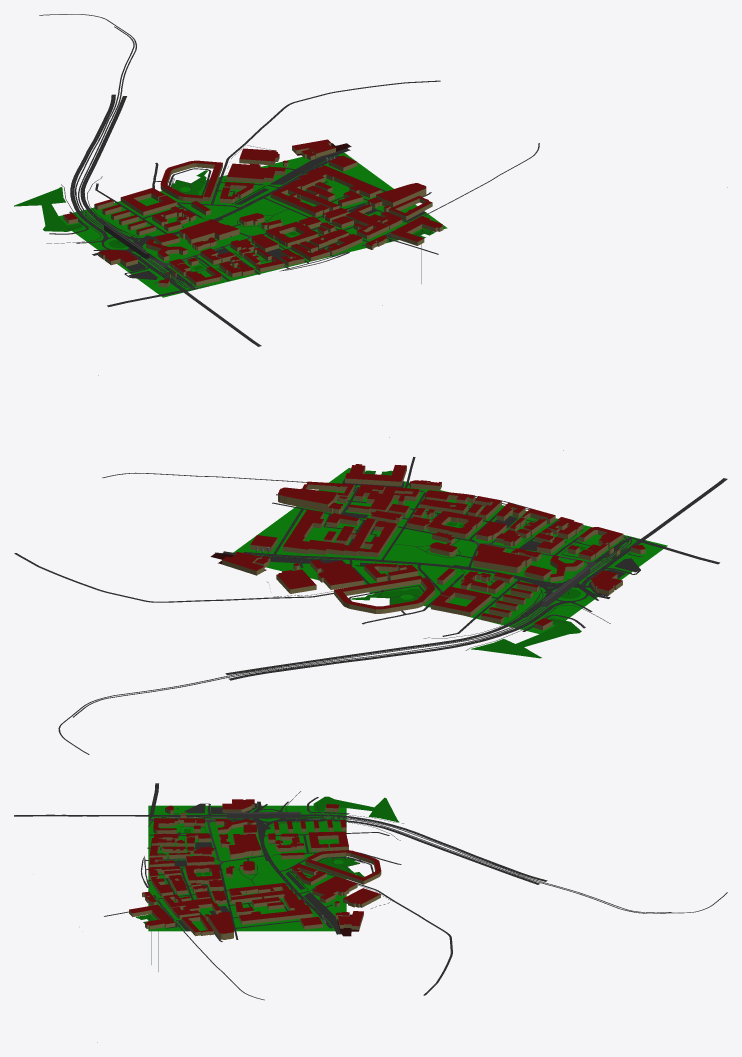
The model's file is Sheffield_St_Georges.obj.
3 views of the same model, one above another, from view 1: azimuth 30°, elevation 25°; view 2: azimuth 150°, elevation 25°; view 3: azimuth 270°, elevation 25° (orthographic). The views are drawn at different scales.
Parts seen in each view (by area): view 1: SurfaceArea735, SurfaceArea737, Building Sir Frederick Mappin Building, Road Netherthorpe Road, Building Edward Street Flats, SurfaceArea726, SurfaceArea736, Building The Diamond, Building Kroto Innovation Centre, Building Allen Court, Building Regent Court, Building Rockingham Street (+6 smaller); view 2: SurfaceArea735, SurfaceArea737, Building Sir Frederick Mappin Building, Road Netherthorpe Road, Building Edward Street Flats, SurfaceArea726, SurfaceArea736, Building The Diamond, Building Allen Court, Building Kroto Innovation Centre, Building Rockingham Street, Building Regent Court (+7 smaller); view 3: SurfaceArea735, SurfaceArea737, Building Sir Frederick Mappin Building, Road Netherthorpe Road, Building Edward Street Flats, SurfaceArea726, SurfaceArea736, Building Kroto Innovation Centre, Building Allen Court, Building The Diamond, Building Sir Robert Hadfield Building, SurfaceArea738 (+8 smaller).
Part boxes in pixels (left/top/right/bottom): SurfaceArea735: left=72, top=192, right=320, bottom=297; SurfaceArea737: left=230, top=162, right=447, bottom=258; Building Sir Frederick Mappin Building: left=270, top=169, right=339, bottom=216; Road Netherthorpe Road: left=70, top=94, right=126, bottom=238; Building Edward Street Flats: left=160, top=160, right=222, bottom=202; SurfaceArea726: left=14, top=187, right=82, bottom=231; SurfaceArea736: left=59, top=179, right=222, bottom=230; Building The Diamond: left=179, top=219, right=239, bottom=244; Building Kroto Innovation Centre: left=226, top=163, right=285, bottom=183; Building Allen Court: left=120, top=188, right=177, bottom=215; Building Regent Court: left=266, top=221, right=318, bottom=247; Building Rockingham Street: left=376, top=183, right=426, bottom=207; SurfaceArea735: left=397, top=505, right=667, bottom=620; SurfaceArea737: left=247, top=468, right=484, bottom=574; Building Sir Frederick Mappin Building: left=297, top=518, right=397, bottom=557; Road Netherthorpe Road: left=225, top=597, right=563, bottom=680; Building Edward Street Flats: left=334, top=575, right=434, bottom=613; SurfaceArea726: left=471, top=618, right=581, bottom=658; SurfaceArea736: left=369, top=579, right=563, bottom=633; Building The Diamond: left=473, top=543, right=531, bottom=573; Building Allen Court: left=431, top=586, right=491, bottom=616; Building Kroto Innovation Centre: left=310, top=559, right=363, bottom=589; Building Rockingham Street: left=278, top=487, right=337, bottom=511; Building Regent Court: left=428, top=511, right=482, bottom=538; SurfaceArea735: left=148, top=805, right=313, bottom=875; SurfaceArea737: left=148, top=875, right=313, bottom=931; Building Sir Frederick Mappin Building: left=228, top=883, right=309, bottom=910; Road Netherthorpe Road: left=281, top=814, right=547, bottom=884; Building Edward Street Flats: left=305, top=850, right=381, bottom=884; SurfaceArea726: left=313, top=796, right=399, bottom=822; SurfaceArea736: left=313, top=806, right=346, bottom=875; Building Kroto Innovation Centre: left=312, top=876, right=357, bottom=903; Building Allen Court: left=308, top=831, right=348, bottom=851; Building The Diamond: left=228, top=834, right=261, bottom=859; Building Sir Robert Hadfield Building: left=239, top=908, right=312, bottom=924; SurfaceArea738: left=313, top=875, right=346, bottom=931.
Bounding box in the file's own units: 1114 × 112 × 1297.
